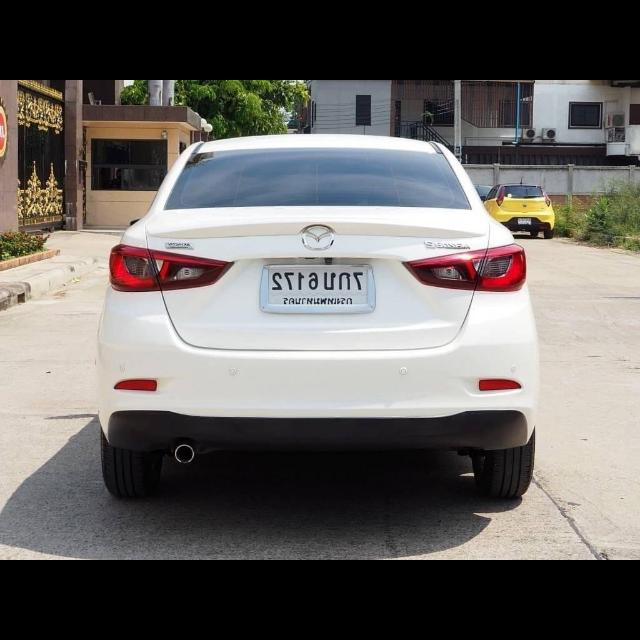cars: (85, 128, 548, 512)
